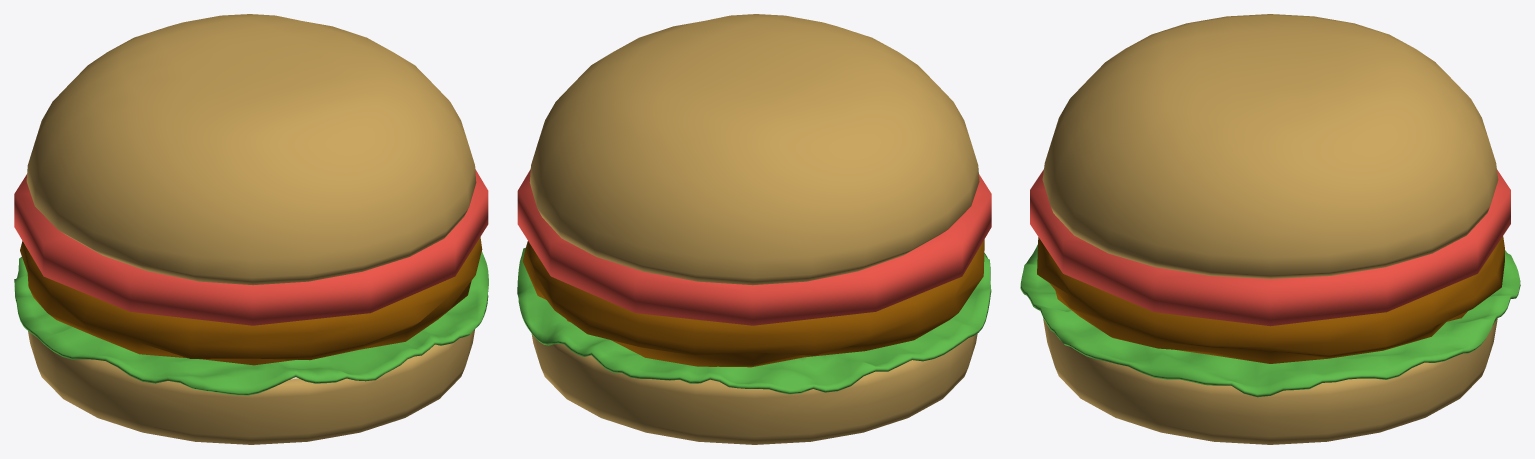
The model's file is hamburger.glb.
3 views of the same model, side by side, from view 1: azimuth 30°, elevation 25°; view 2: azimuth 150°, elevation 25°; view 3: azimuth 270°, elevation 25° (orthographic).
Parts seen in each view (by area): view 1: BunTop, BunBottom, Tomato, Patty, Lettuce; view 2: BunTop, BunBottom, Tomato, Patty, Lettuce; view 3: BunTop, BunBottom, Tomato, Patty, Lettuce.
Part boxes in pixels (box(x1,y1,x2,y2)): BunTop: box(26, 14, 476, 285); BunBottom: box(28, 329, 474, 444); Tomato: box(14, 169, 488, 325); Patty: box(20, 237, 482, 365); Lettuce: box(14, 251, 488, 395); BunTop: box(529, 14, 979, 285); BunBottom: box(531, 333, 977, 444); Tomato: box(517, 169, 991, 325); Patty: box(522, 239, 984, 367); Lettuce: box(517, 248, 991, 394); BunTop: box(1042, 14, 1498, 278); BunBottom: box(1043, 317, 1497, 444); Tomato: box(1030, 169, 1510, 326); Patty: box(1037, 236, 1504, 363); Lettuce: box(1020, 244, 1520, 397).
Size of the model in its own units: 0.1894 by 0.1282 by 0.1904.
